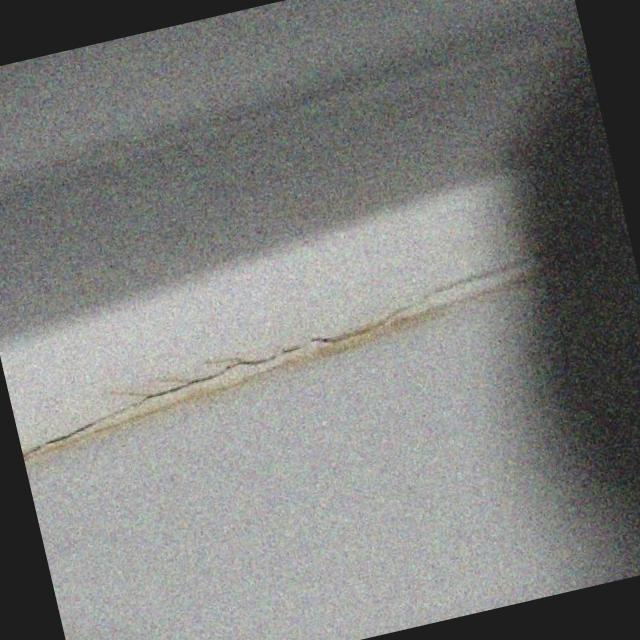crack: (139, 343, 305, 403), (309, 304, 421, 347), (426, 256, 530, 298), (18, 418, 108, 454)
